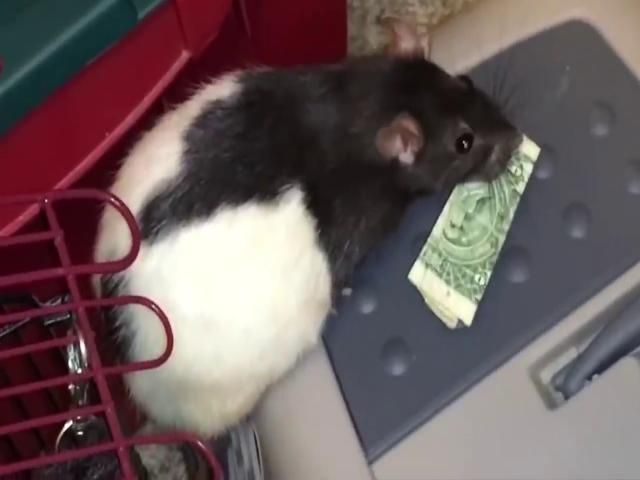Tikus: (92, 25, 523, 439)
